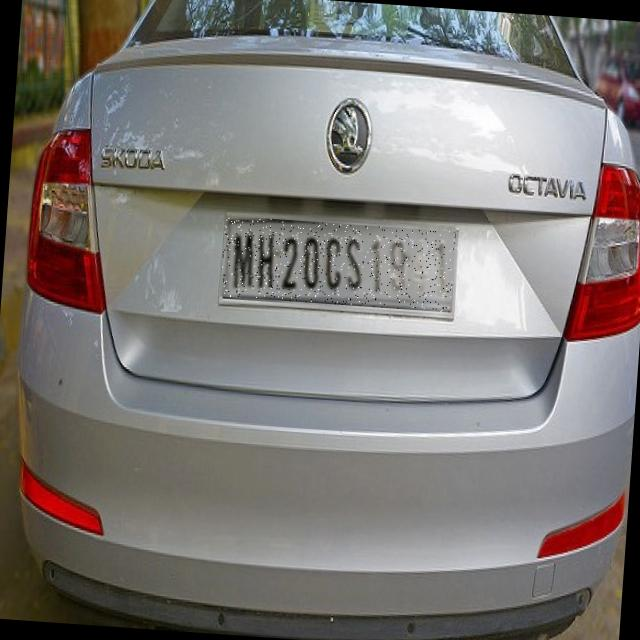Plate: (221, 216, 457, 313)
